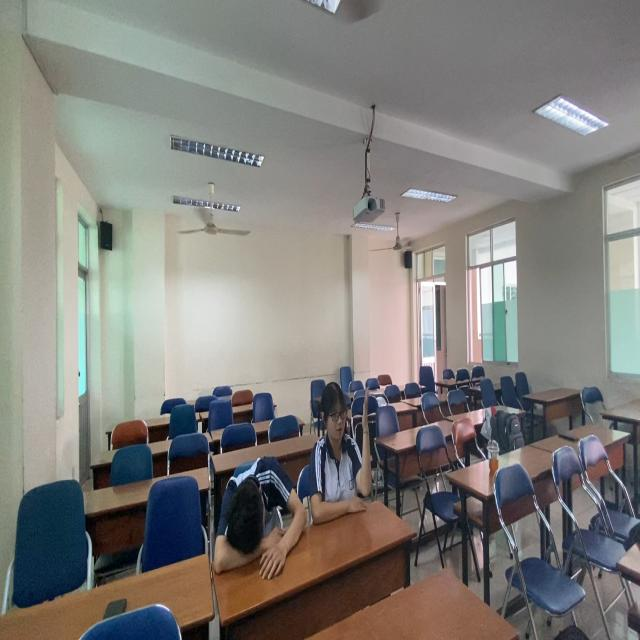raise_hand: (319, 379, 375, 526)
sleep: (215, 447, 311, 590)
